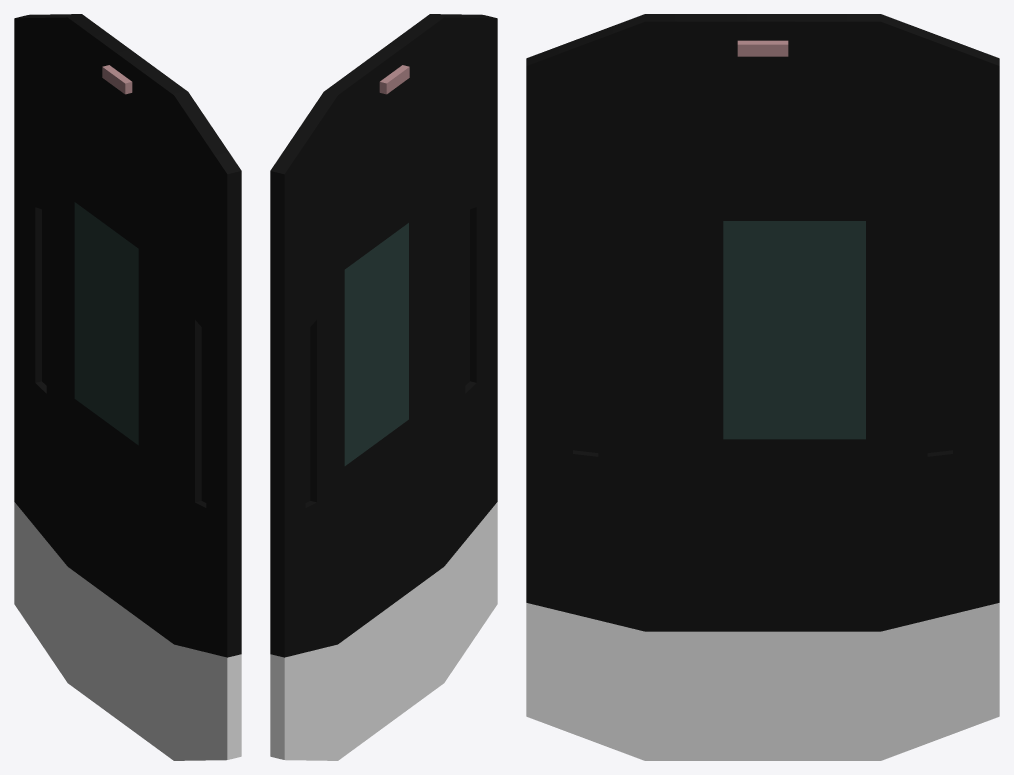
File: porte medical.fbx
3 views of the same model, side by side, from view 1: azimuth 30°, elevation 25°; view 2: azimuth 150°, elevation 25°; view 3: azimuth 270°, elevation 25° (orthographic). The views are drawn at different scales.
Visible parts, largest first — view 1: Porte001; view 2: Porte001; view 3: Porte001.
Part boxes in pixels (box(x1,y1,x2,y2)): Porte001: box(14, 14, 241, 760); Porte001: box(270, 14, 497, 760); Porte001: box(526, 14, 999, 760).
Bounding box in the file's own units: 21.72 × 484 × 281.
